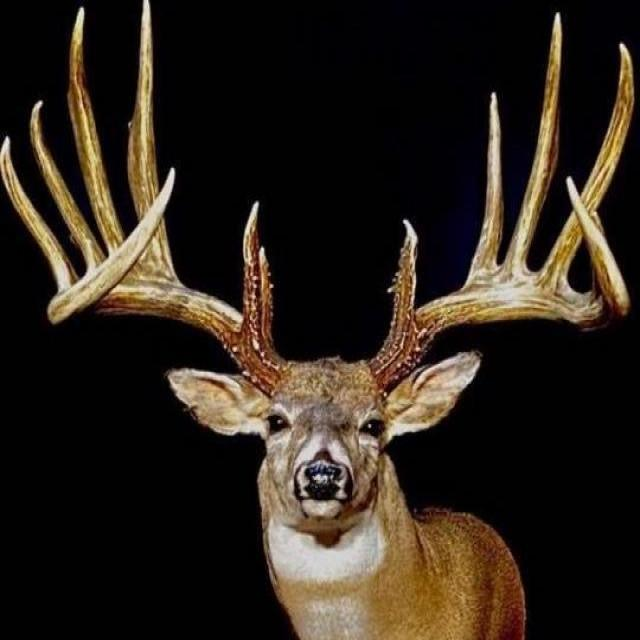deer: (11, 9, 601, 612)
